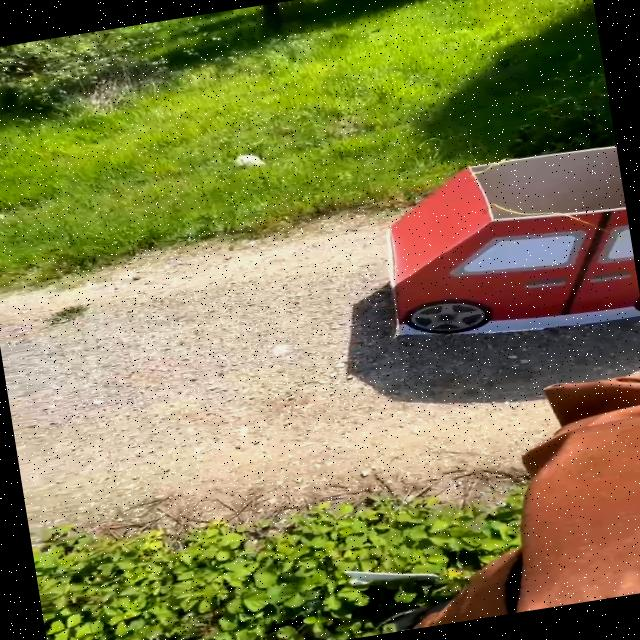red_car: (355, 136, 640, 367)
